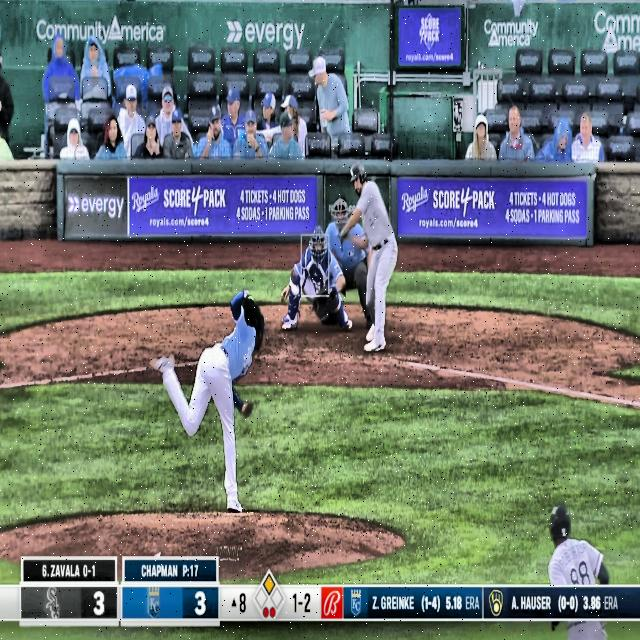baseball: (291, 284, 300, 296)
